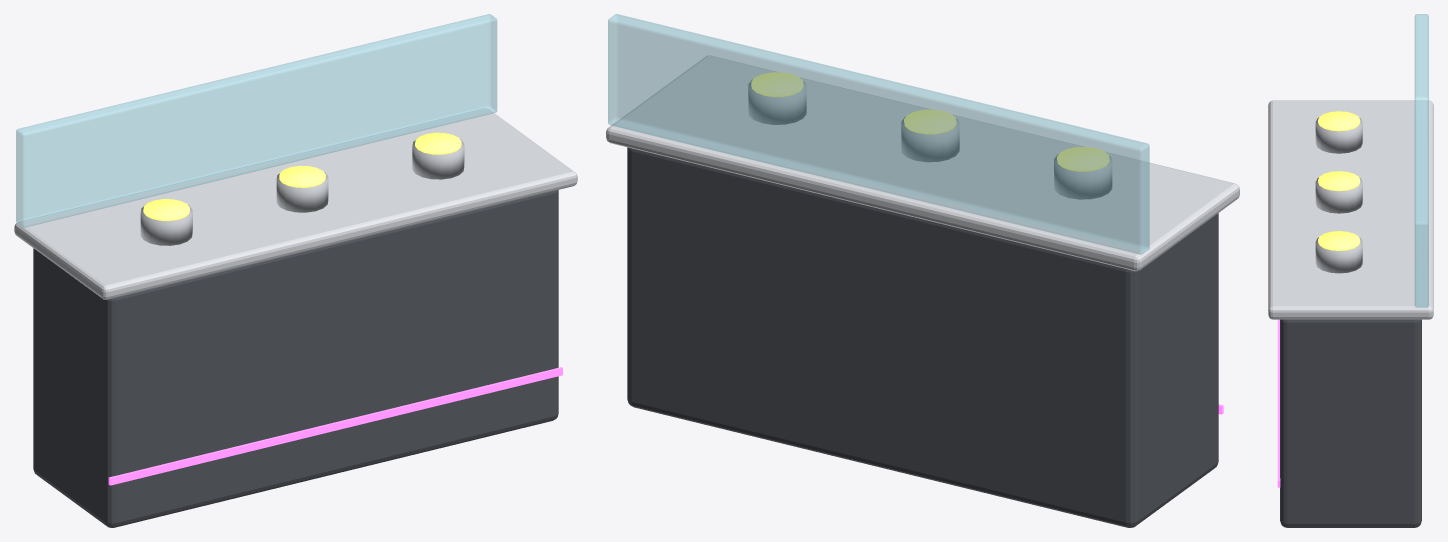
Rendered from noodle_stall_counter_bar.glb.
3 views of the same model, side by side, from view 1: azimuth 30°, elevation 25°; view 2: azimuth 150°, elevation 25°; view 3: azimuth 270°, elevation 25° (orthographic). The views are drawn at different scales.
Visible parts, largest first — view 1: GD_noodle_stall_counter_bar__m0, GD_noodle_stall_counter_bar__m3, GD_noodle_stall_counter_bar__m1, GD_noodle_stall_counter_bar__m4, GD_noodle_stall_counter_bar__m2, GD_noodle_stall_counter_bar__m5; view 2: GD_noodle_stall_counter_bar__m0, GD_noodle_stall_counter_bar__m3, GD_noodle_stall_counter_bar__m1, GD_noodle_stall_counter_bar__m4, GD_noodle_stall_counter_bar__m5; view 3: GD_noodle_stall_counter_bar__m1, GD_noodle_stall_counter_bar__m0, GD_noodle_stall_counter_bar__m3, GD_noodle_stall_counter_bar__m4, GD_noodle_stall_counter_bar__m5, GD_noodle_stall_counter_bar__m2.
Boxes of the visible parts, x1,y1,x2,y2 form: GD_noodle_stall_counter_bar__m0: (33, 190, 558, 527); GD_noodle_stall_counter_bar__m3: (16, 14, 497, 227); GD_noodle_stall_counter_bar__m1: (14, 108, 577, 299); GD_noodle_stall_counter_bar__m4: (140, 139, 464, 245); GD_noodle_stall_counter_bar__m2: (108, 367, 562, 485); GD_noodle_stall_counter_bar__m5: (143, 132, 461, 220); GD_noodle_stall_counter_bar__m0: (627, 147, 1218, 527); GD_noodle_stall_counter_bar__m3: (608, 14, 1149, 254); GD_noodle_stall_counter_bar__m1: (606, 55, 1239, 271); GD_noodle_stall_counter_bar__m4: (748, 79, 1112, 199); GD_noodle_stall_counter_bar__m5: (751, 72, 1109, 171); GD_noodle_stall_counter_bar__m1: (1268, 100, 1433, 319); GD_noodle_stall_counter_bar__m0: (1280, 319, 1421, 527); GD_noodle_stall_counter_bar__m3: (1414, 14, 1428, 307); GD_noodle_stall_counter_bar__m4: (1315, 117, 1362, 273); GD_noodle_stall_counter_bar__m5: (1318, 111, 1360, 250); GD_noodle_stall_counter_bar__m2: (1277, 319, 1280, 487).
Size of the model in its own units: 2.1 by 1.46 by 0.7.
